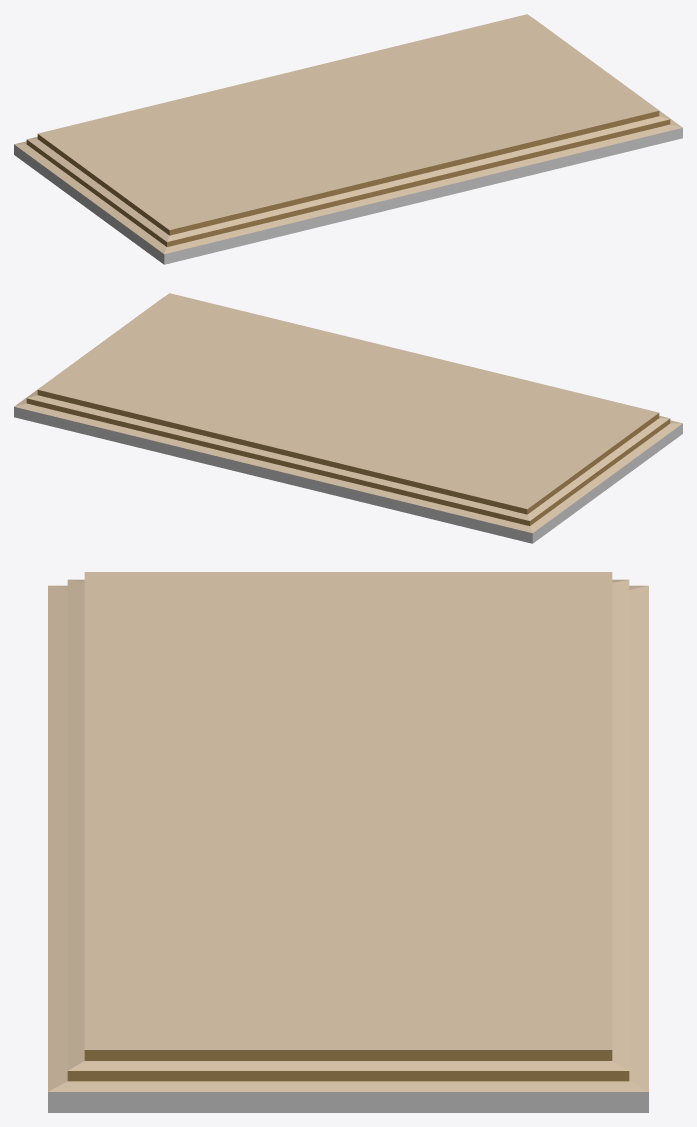
File: ChurchStageFloor.glb
3 renders of one model, top to bottom at view 1: azimuth 30°, elevation 25°; view 2: azimuth 150°, elevation 25°; view 3: azimuth 270°, elevation 25°, orthographic. The views are drawn at different scales.
Visible parts, largest first — view 1: ChurchStageFloor; view 2: ChurchStageFloor; view 3: ChurchStageFloor.
Part boxes in pixels (<box>): ChurchStageFloor: <box>14,14,682,264</box>; ChurchStageFloor: <box>14,293,682,543</box>; ChurchStageFloor: <box>48,572,648,1112</box>.
Size of the model in its own units: 5.1 by 0.2294 by 2.56.
1 material, 1 textured.
